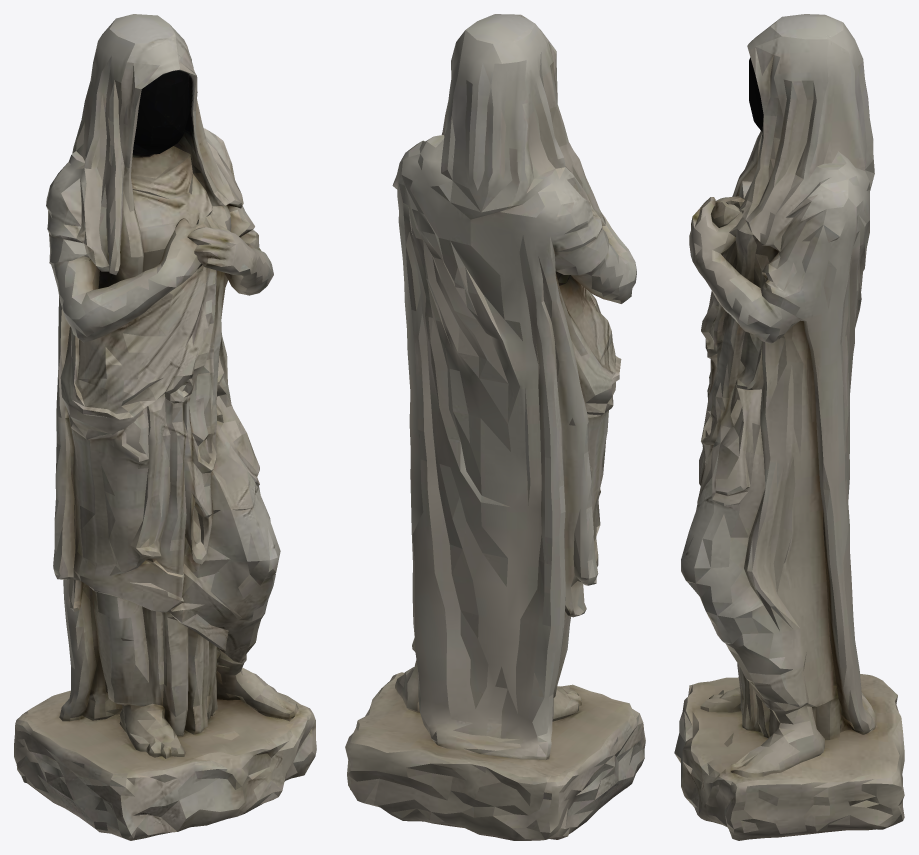
Rendered from statue_veiled_unfinished.glb.
3 renders of one model, left to right at view 1: azimuth 30°, elevation 25°; view 2: azimuth 150°, elevation 25°; view 3: azimuth 270°, elevation 25°, orthographic.
Visible parts, largest first — view 1: statue_veiled_unfinished; view 2: statue_veiled_unfinished; view 3: statue_veiled_unfinished.
Boxes of the visible parts, x1,y1,x2,y2 form: statue_veiled_unfinished: (14, 14, 316, 840); statue_veiled_unfinished: (345, 14, 645, 840); statue_veiled_unfinished: (674, 14, 904, 840).
Size of the model in its own units: 0.6497 by 2 by 0.544.
Materials: 1 (1 with a texture image).
